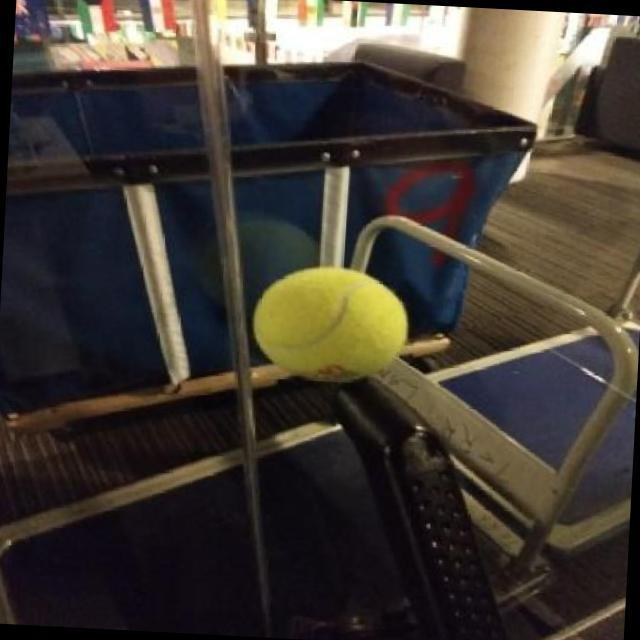-: (246, 254, 417, 393)
